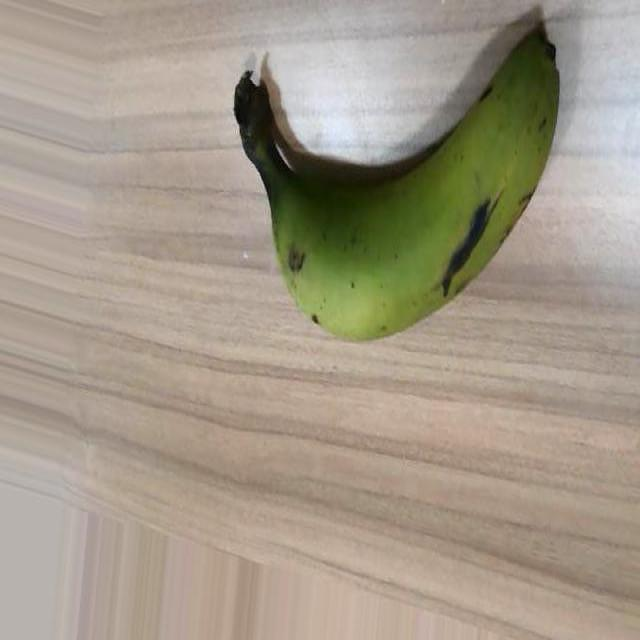Unripe: (234, 22, 563, 340)
